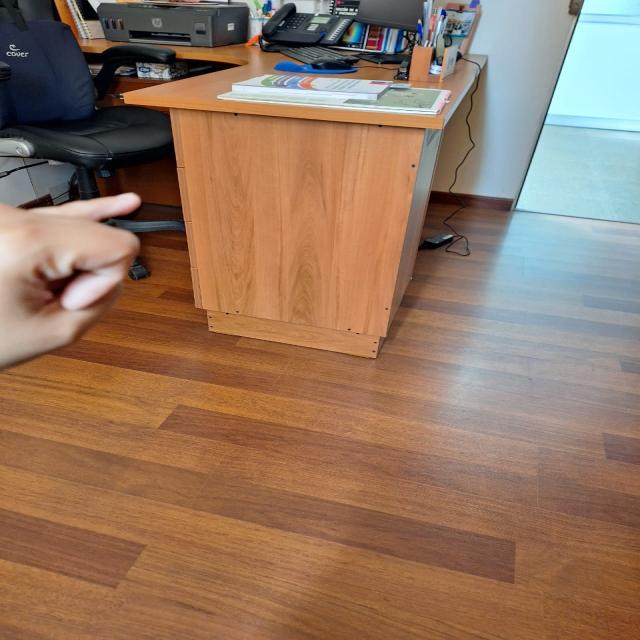Z: (0, 184, 165, 378)
